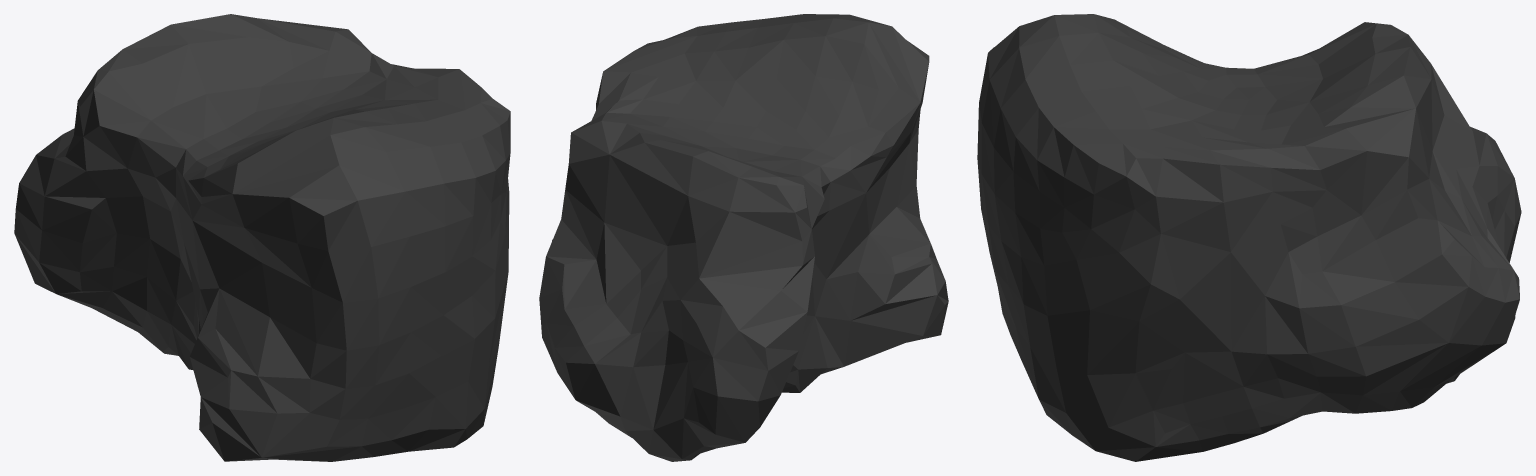
Rendered from Radial_carpal_R.glb.
The picture shows the model from 3 angles, left to right: view 1: azimuth 30°, elevation 25°; view 2: azimuth 150°, elevation 25°; view 3: azimuth 270°, elevation 25°; orthographic projection. The views are drawn at different scales.
Visible parts, largest first — view 1: Radial_carpal_R; view 2: Radial_carpal_R; view 3: Radial_carpal_R.
Part boxes in pixels (x1,y1,x2,y2): Radial_carpal_R: [14, 14, 510, 461]; Radial_carpal_R: [539, 14, 948, 461]; Radial_carpal_R: [977, 14, 1521, 461].
Size of the model in its own units: 0.0509 by 0.0515 by 0.071.
Materials: 1 (1 with a texture image).
